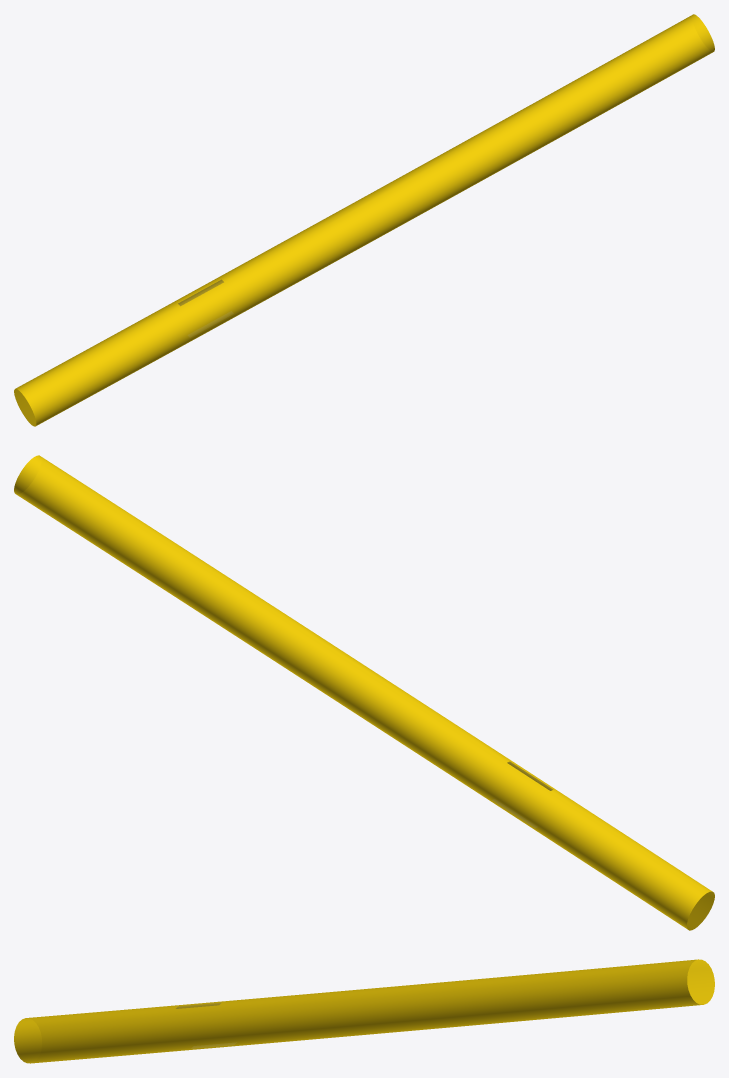
File: Event_420107950_track_3.fbx
The picture shows the model from 3 angles, top to bottom: view 1: azimuth 30°, elevation 25°; view 2: azimuth 150°, elevation 25°; view 3: azimuth 330°, elevation 25°; orthographic projection. The views are drawn at different scales.
Visible parts, largest first — view 1: Model; view 2: Model; view 3: Model.
Part boxes in pixels (x1,y1,x2,y2): Model: (14,14,714,426); Model: (14,455,714,930); Model: (14,959,714,1063).
Bounding box in the file's own units: 0.7179 × 0.2766 × 0.0838.
